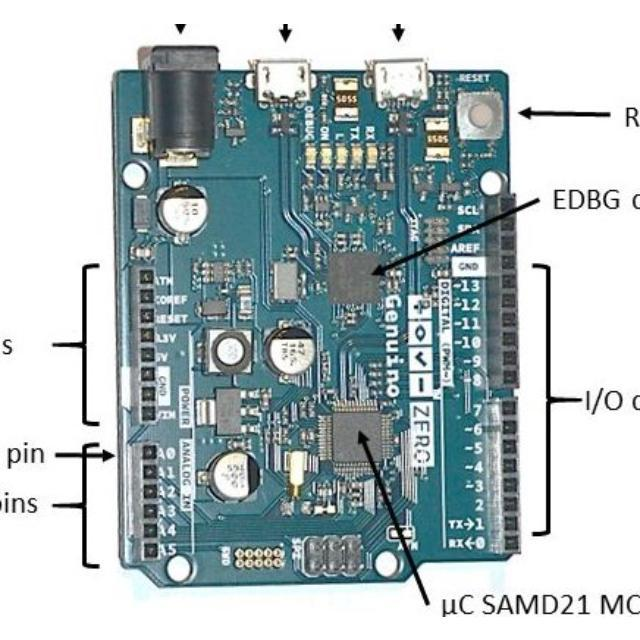Arduino-Zero: (114, 47, 519, 587)
